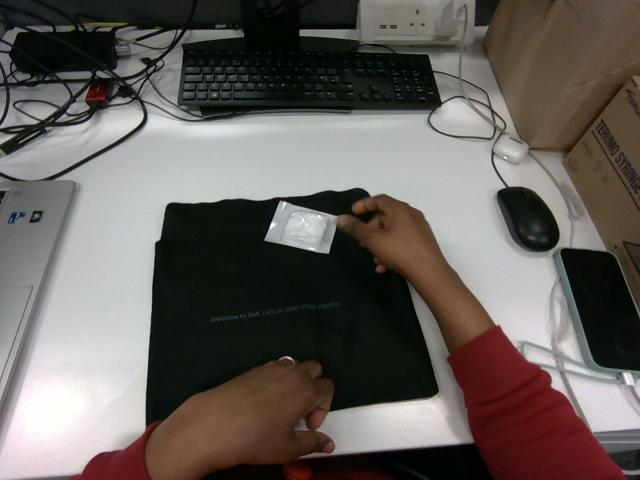gauze: (264, 201, 336, 253)
